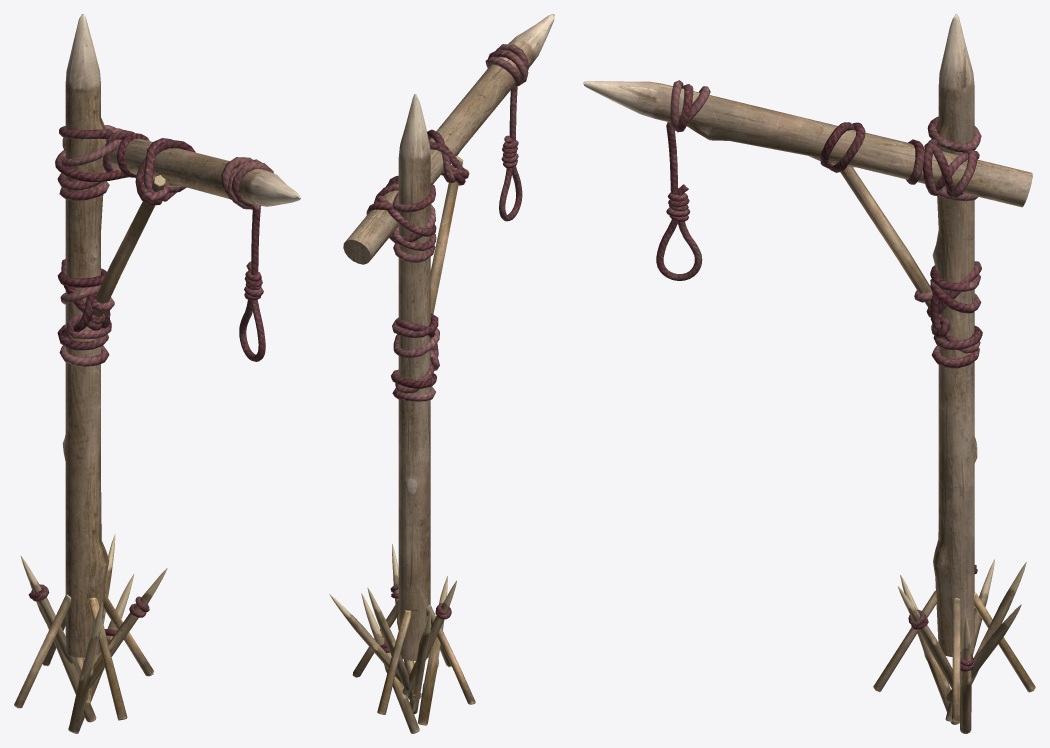
3 views of the same model, side by side, from view 1: azimuth 30°, elevation 25°; view 2: azimuth 150°, elevation 25°; view 3: azimuth 270°, elevation 25° (orthographic). The views are drawn at different scales.
Parts seen in each view (by area): view 1: SM_Gobliin_Cage_Post_01_LOD0; view 2: SM_Gobliin_Cage_Post_01_LOD0; view 3: SM_Gobliin_Cage_Post_01_LOD0.
Boxes of the visible parts, x1,y1,x2,y2 form: SM_Gobliin_Cage_Post_01_LOD0: (14, 14, 300, 733); SM_Gobliin_Cage_Post_01_LOD0: (329, 14, 554, 733); SM_Gobliin_Cage_Post_01_LOD0: (583, 14, 1035, 733).
Size of the model in its own units: 1.39 by 6.85 by 3.9.
2 materials, 2 textured.
